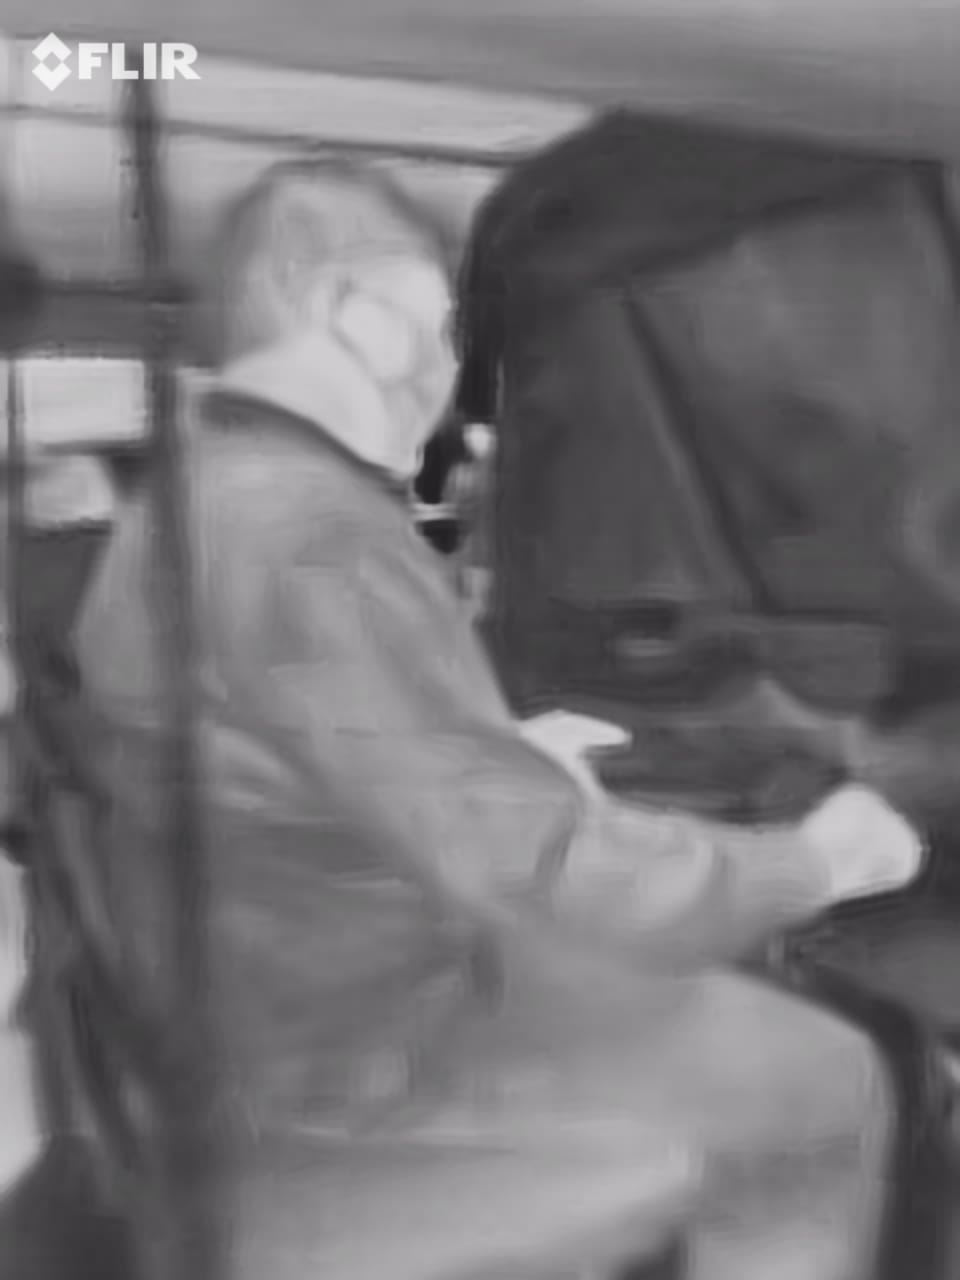head: (203, 140, 486, 499)
